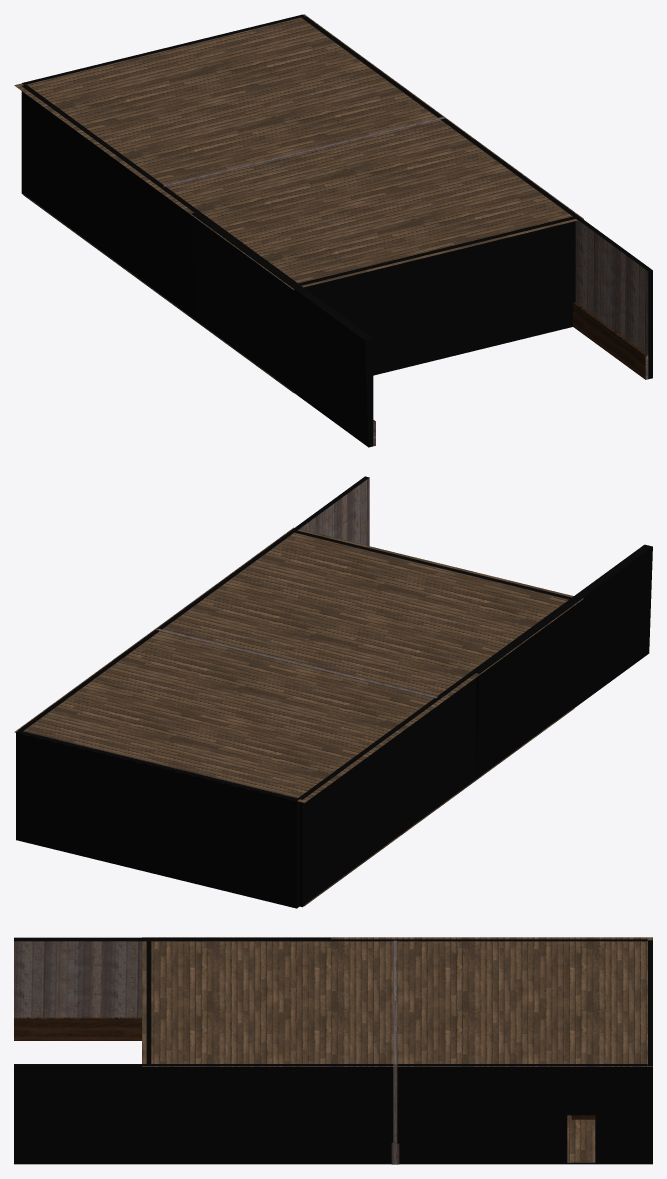
Rendered from bar_remade.glb.
3 views of the same model, one above another, from view 1: azimuth 30°, elevation 25°; view 2: azimuth 150°, elevation 25°; view 3: azimuth 270°, elevation 25° (orthographic). The views are drawn at different scales.
Visible parts, largest first — view 1: Cube; view 2: Cube; view 3: Cube.
Boxes of the visible parts, bbox=[...] form: Cube: bbox=[14, 14, 652, 447]; Cube: bbox=[14, 476, 652, 908]; Cube: bbox=[14, 937, 652, 1164].
Size of the model in its own units: 124 by 44.16 by 259.
Materials: 49 (13 with a texture image).
